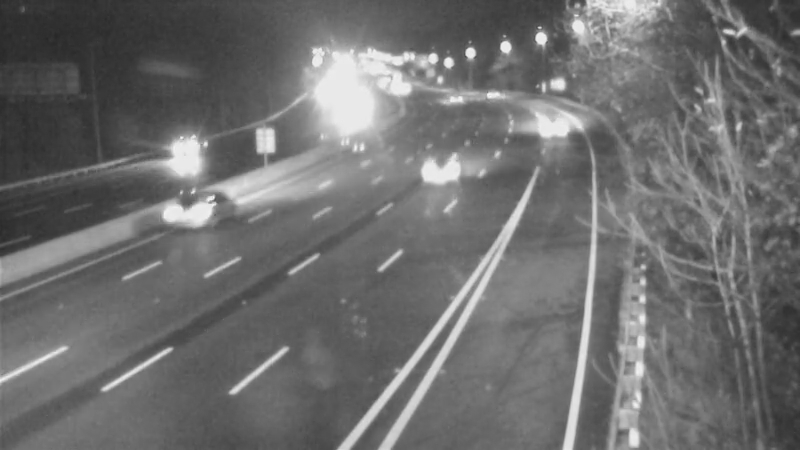vehicle: (400, 128, 480, 208), (152, 166, 232, 246), (464, 69, 514, 119), (427, 74, 477, 124), (520, 101, 570, 151), (158, 119, 208, 169)
